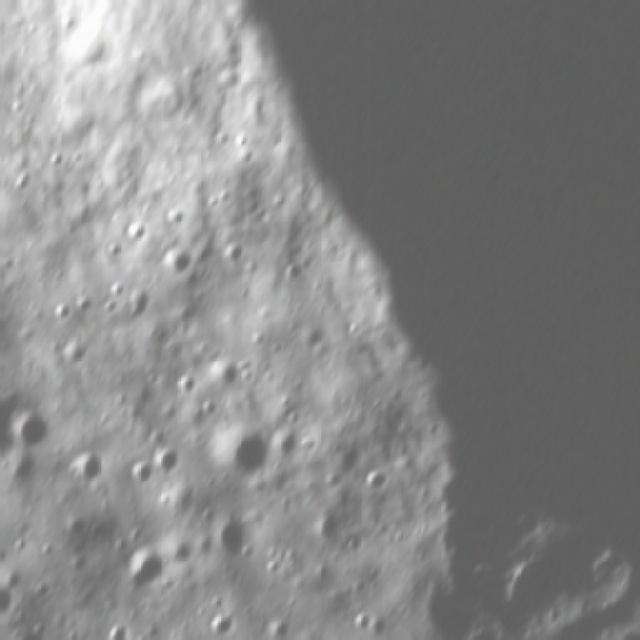crater: (493, 547, 564, 625), (194, 425, 271, 481), (111, 541, 163, 602), (55, 25, 111, 69), (207, 518, 258, 562), (66, 449, 102, 491), (194, 606, 237, 640), (16, 413, 47, 455), (0, 578, 20, 634), (42, 298, 72, 333), (124, 287, 148, 330), (165, 374, 198, 403), (342, 611, 376, 638), (121, 461, 156, 487), (208, 357, 238, 386), (355, 464, 387, 491), (274, 260, 304, 282), (121, 216, 147, 241), (153, 450, 175, 476), (98, 238, 120, 258), (162, 206, 182, 228), (103, 279, 125, 298), (73, 297, 93, 315), (94, 300, 118, 315), (228, 131, 248, 149), (0, 376, 5, 410)
